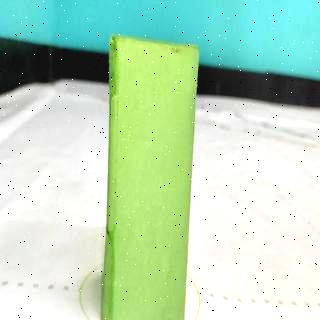greenbox: (104, 34, 202, 320)
